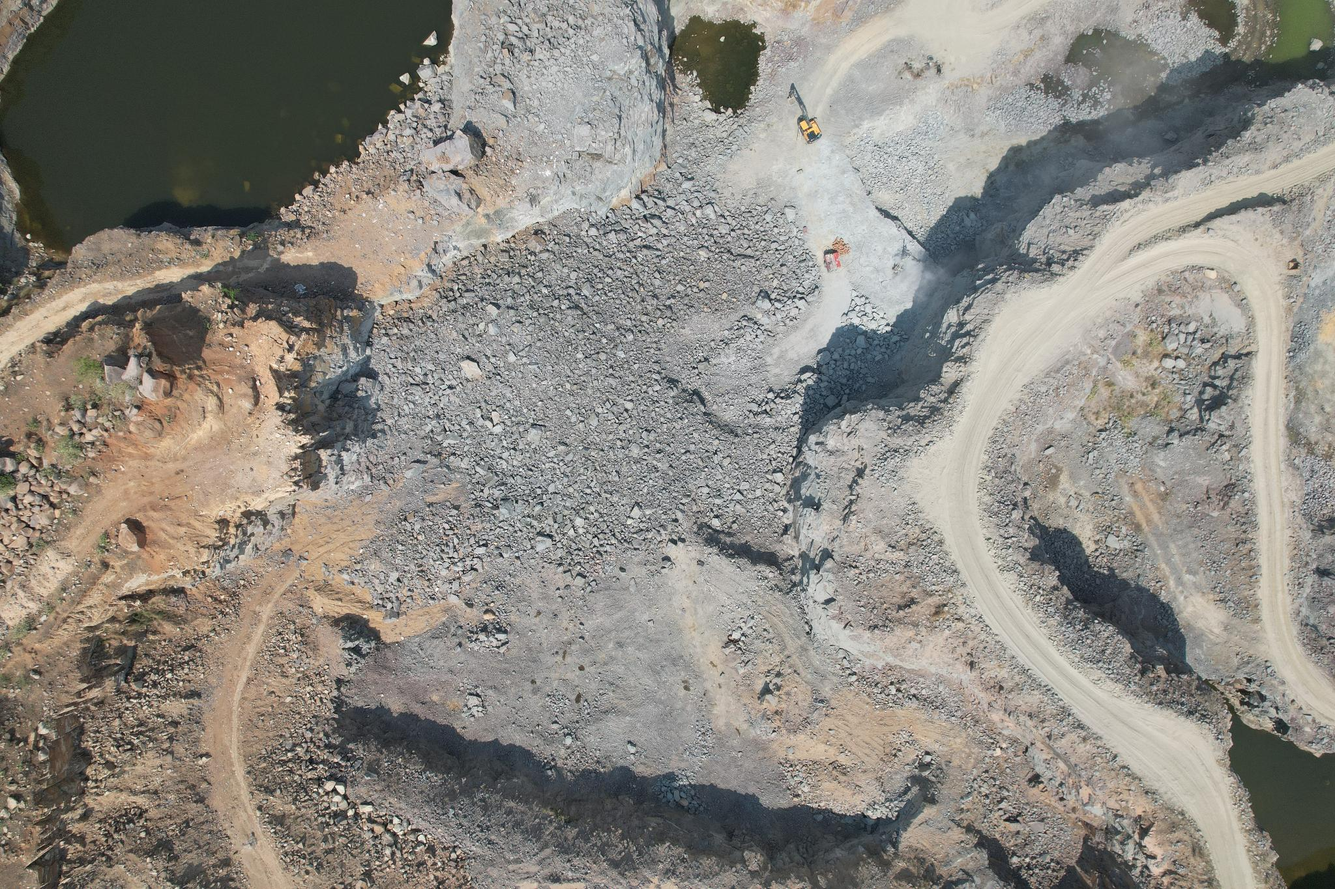benches: (925, 143, 1335, 886), (204, 566, 297, 889), (815, 0, 1049, 101), (0, 263, 208, 362)
excavator: (788, 87, 821, 147)
truck: (822, 238, 850, 271)
